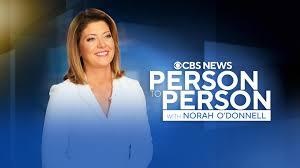Persons: (60, 8, 116, 50)
